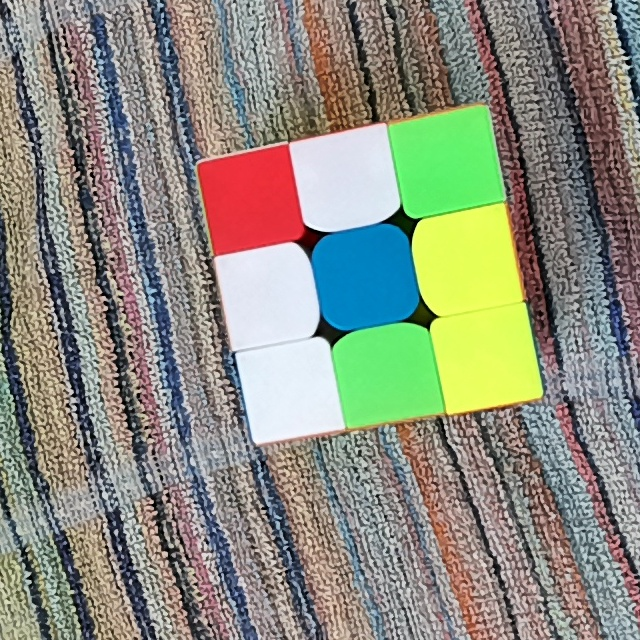tile: (408, 124, 489, 201), (431, 221, 508, 302), (351, 334, 430, 412), (304, 141, 385, 216), (329, 239, 406, 317), (448, 321, 526, 397), (212, 162, 289, 237), (255, 352, 331, 425), (230, 258, 302, 334)
